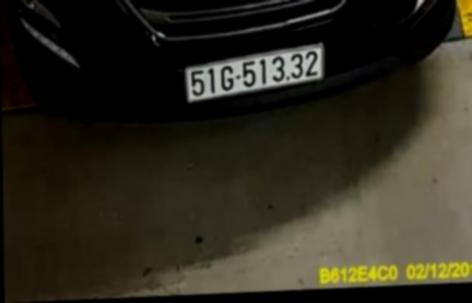License_Plate: (180, 46, 334, 101)
